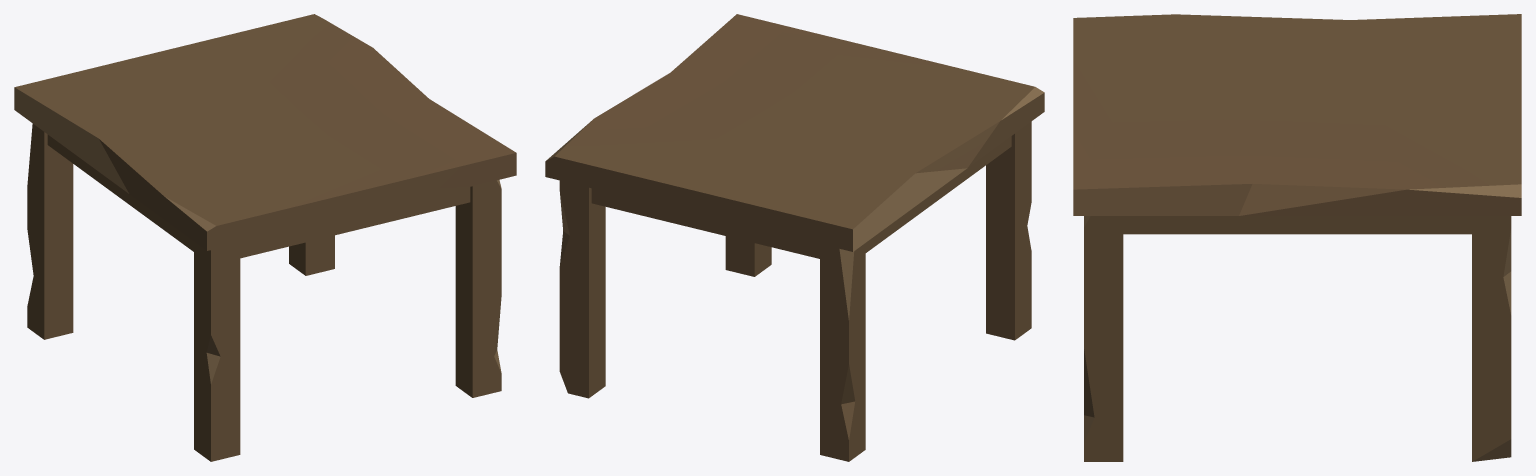
File: kingdom_SM_Prop_Table_Wood_10.gltf
3 views of the same model, side by side, from view 1: azimuth 30°, elevation 25°; view 2: azimuth 150°, elevation 25°; view 3: azimuth 270°, elevation 25° (orthographic). The views are drawn at different scales.
Visible parts, largest first — view 1: SM_Prop_Table_Wood_10; view 2: SM_Prop_Table_Wood_10; view 3: SM_Prop_Table_Wood_10.
Part boxes in pixels (<box>): SM_Prop_Table_Wood_10: <box>14,14,516,461</box>; SM_Prop_Table_Wood_10: <box>545,14,1044,461</box>; SM_Prop_Table_Wood_10: <box>1073,14,1521,461</box>.
Bounding box in the file's own units: 1.06 × 0.7859 × 1.15.
Materials: 1 (1 with a texture image).
